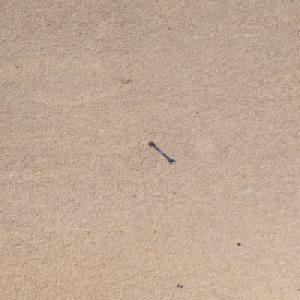Wrench: (147, 141, 176, 163)
